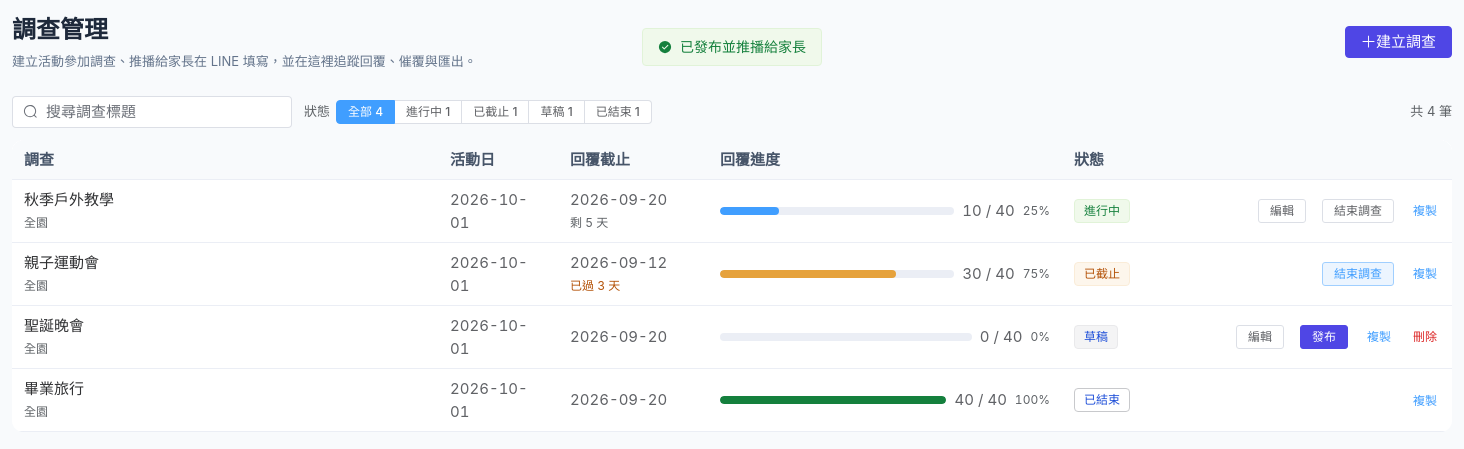
Scenario: SurveyListView › 搜尋標題即打即濾，篩無結果顯示提示而非空白
The image size is (1464, 449).
Step 1. Type "運動" into the field with placeholder "搜尋調查標題" → [164, 112], box top-left (46, 96), bottom-right (281, 126)
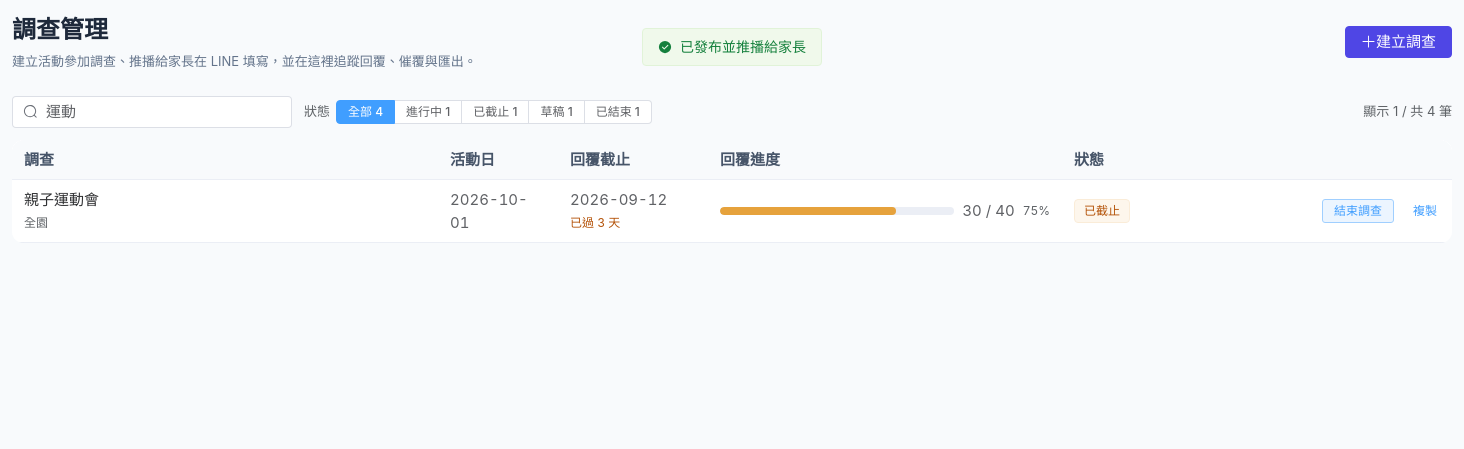
expect the row with class "survey-row" shows "親子運動會": met, box top-left (24, 190), bottom-right (99, 208)
Step 2. Replace the text in the field with placeholder "搜尋調查標題" with "不存在的調查" → [164, 112], box top-left (46, 96), bottom-right (281, 126)
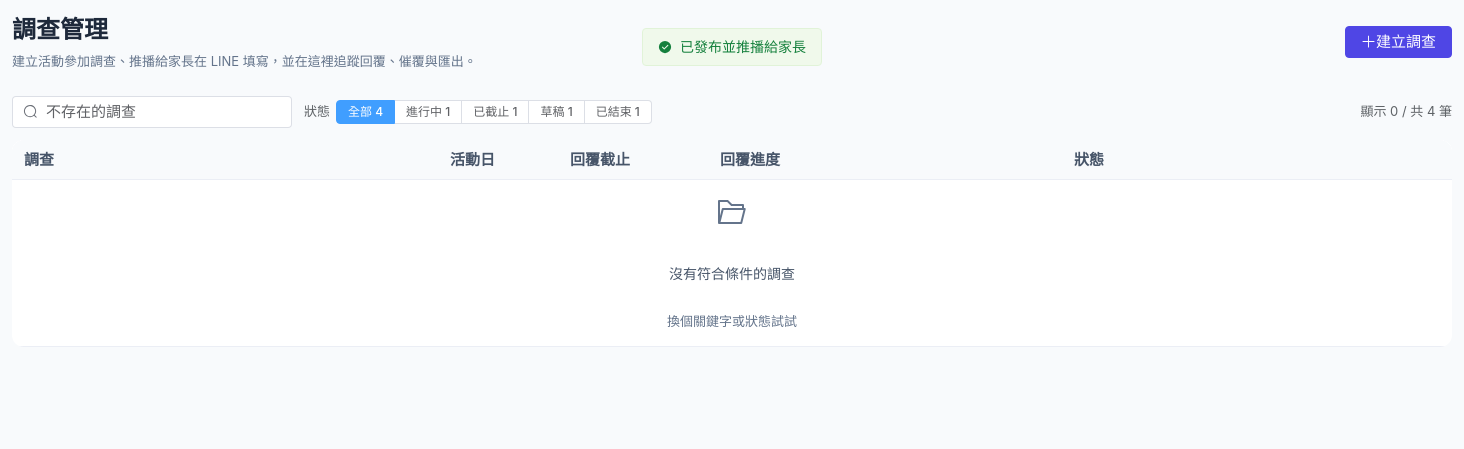
expect the text "沒有符合條件的調查" is shown: met, box top-left (669, 264), bottom-right (795, 282)
